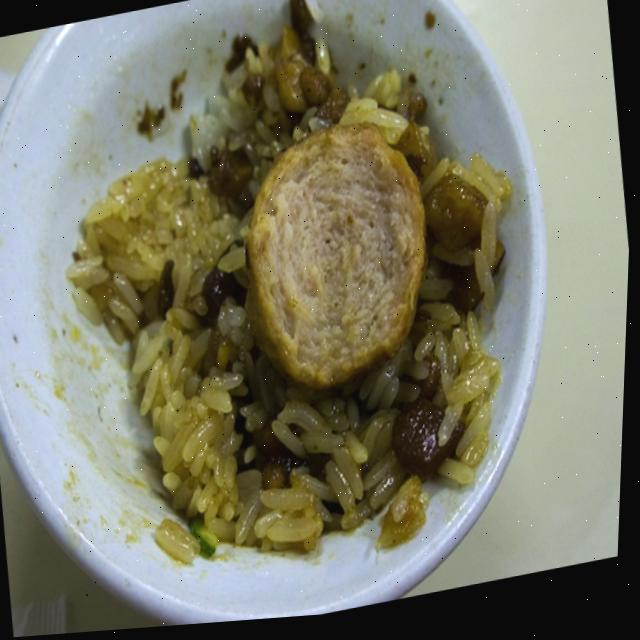米饭主食: (32, 0, 562, 593)
